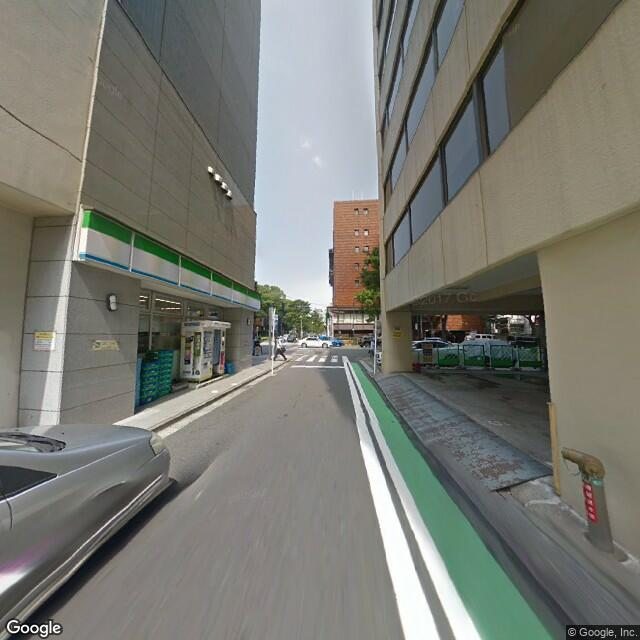family_mart: (82, 213, 259, 309)
